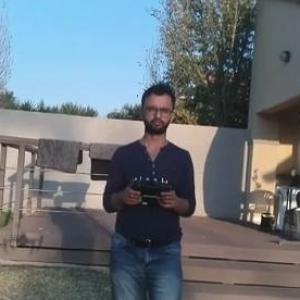follow: (97, 77, 201, 299)
